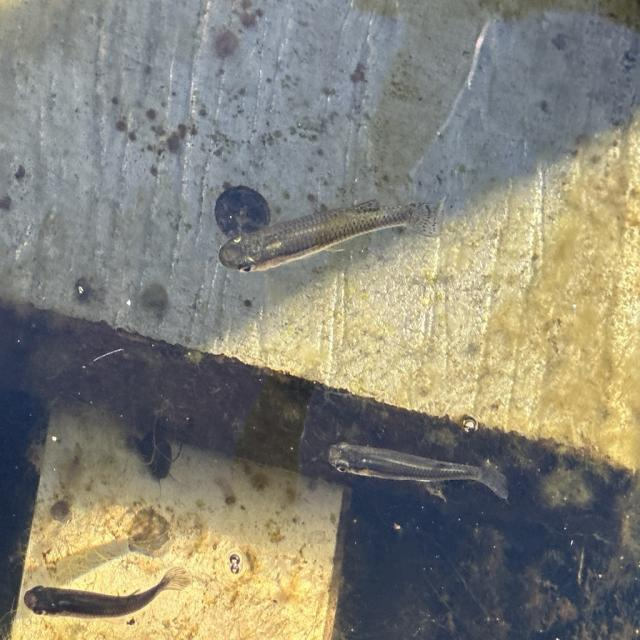Sivrisinek Baligi: (312, 404, 521, 518), (214, 187, 447, 275), (15, 551, 199, 624)
